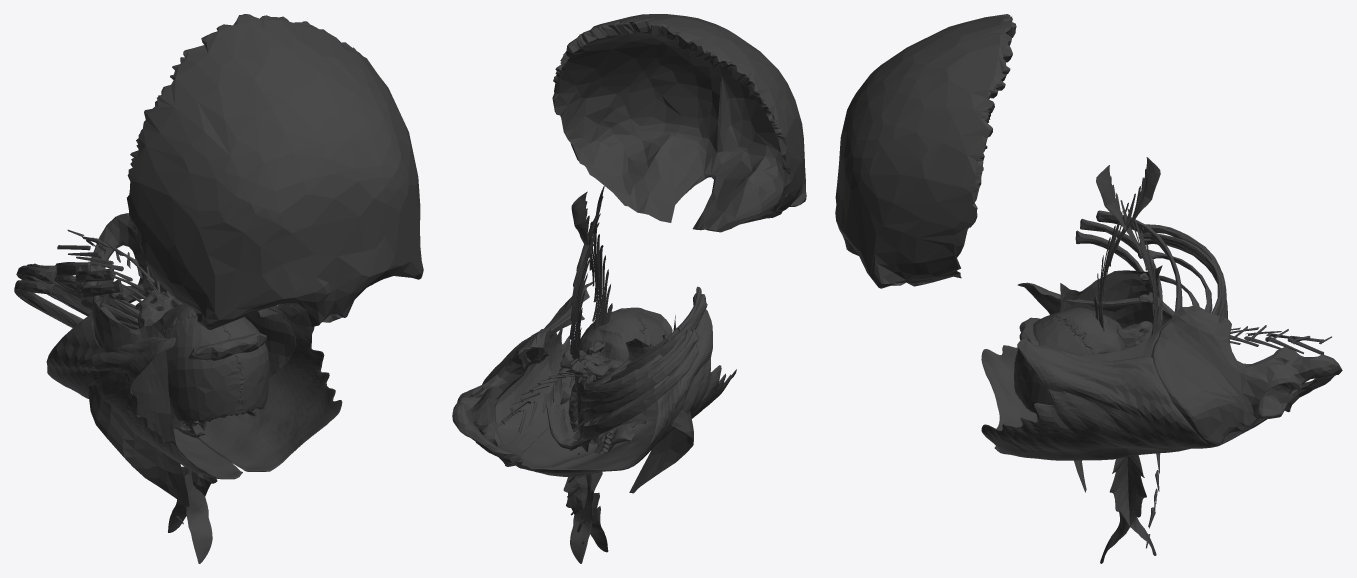
The model's file is sharedassets51.glb.
3 views of the same model, side by side, from view 1: azimuth 30°, elevation 25°; view 2: azimuth 150°, elevation 25°; view 3: azimuth 270°, elevation 25° (orthographic). The views are drawn at different scales.
Parts seen in each view (by area): view 1: 0077_Frontal__001097, 0200_External oblique, L__1000151, 0192_External oblique, R__1000152, 0193_Internal oblique, R__1000221, 0065_Parietal, R__001095, 0066_Parietal, L__001094, 0204_Internal oblique, L__1000220, 0205_Multifidus, R__1000676, 0199_Ischium, L__001004, 0135_Seventh rib _07_, R__002279, 0117_Manubrium__001162, 0167_S01-05 Sacrum__001242 (+7 smaller); view 2: 0077_Frontal__001097, 0192_External oblique, R__1000152, 0205_Multifidus, R__1000676, 0204_Internal oblique, L__1000220, 0200_External oblique, L__1000151, 0196_Multifidus, L__1000629, 0193_Internal oblique, R__1000221, 0067_Occipital__001132, 0002_Ilium, R__001012, 0064_Mandible_body_001091, 0142_Seventh rib _07_, L__002291, 0141_Sixth rib _06_, L__002290 (+14 smaller); view 3: 0077_Frontal__001097, 0200_External oblique, L__1000151, 0197_Ilium, L__001003, 0002_Ilium, R__001012, 0192_External oblique, R__1000152, 0205_Multifidus, R__1000676, 0193_Internal oblique, R__1000221, 0196_Multifidus, L__1000629, 0066_Parietal, L__001094, 0067_Occipital__001132, 0199_Ischium, L__001004, 0204_Internal oblique, L__1000220 (+2 smaller).
Part boxes in pixels (<box>): 0077_Frontal__001097: <box>127,14,423,329</box>; 0200_External oblique, L__1000151: <box>131,305,342,471</box>; 0192_External oblique, R__1000152: <box>46,306,242,479</box>; 0193_Internal oblique, R__1000221: <box>88,264,189,506</box>; 0065_Parietal, R__001095: <box>164,316,242,423</box>; 0066_Parietal, L__001094: <box>223,317,269,414</box>; 0204_Internal oblique, L__1000220: <box>133,308,296,409</box>; 0205_Multifidus, R__1000676: <box>184,425,212,563</box>; 0199_Ischium, L__001004: <box>90,213,142,269</box>; 0135_Seventh rib _07_, R__002279: <box>14,280,83,327</box>; 0117_Manubrium__001162: <box>188,332,266,360</box>; 0167_S01-05 Sacrum__001242: <box>135,287,175,328</box>; 0077_Frontal__001097: <box>552,14,806,232</box>; 0192_External oblique, R__1000152: <box>525,309,736,476</box>; 0205_Multifidus, R__1000676: <box>563,191,612,552</box>; 0204_Internal oblique, L__1000220: <box>495,315,584,456</box>; 0200_External oblique, L__1000151: <box>501,281,636,471</box>; 0196_Multifidus, L__1000629: <box>569,186,604,563</box>; 0193_Internal oblique, R__1000221: <box>597,315,693,493</box>; 0067_Occipital__001132: <box>579,309,646,361</box>; 0002_Ilium, R__001012: <box>480,328,550,412</box>; 0064_Mandible_body_001091: <box>546,367,619,449</box>; 0142_Seventh rib _07_, L__002291: <box>582,349,698,440</box>; 0141_Sixth rib _06_, L__002290: <box>583,328,697,423</box>; 0077_Frontal__001097: <box>835,14,1016,288</box>; 0200_External oblique, L__1000151: <box>981,338,1267,460</box>; 0197_Ilium, L__001003: <box>1155,311,1270,445</box>; 0002_Ilium, R__001012: <box>1151,305,1266,446</box>; 0192_External oblique, R__1000152: <box>981,282,1171,430</box>; 0205_Multifidus, R__1000676: <box>1093,157,1160,563</box>; 0193_Internal oblique, R__1000221: <box>1060,265,1162,492</box>; 0196_Multifidus, L__1000629: <box>1096,165,1163,555</box>; 0066_Parietal, L__001094: <box>1014,316,1091,413</box>; 0067_Occipital__001132: <box>1056,307,1125,354</box>; 0199_Ischium, L__001004: <box>1261,347,1340,389</box>; 0204_Internal oblique, L__1000220: <box>1078,319,1240,442</box>.
Size of the model in its own units: 0.175 by 0.3596 by 0.3075.
1 material, 1 textured.
